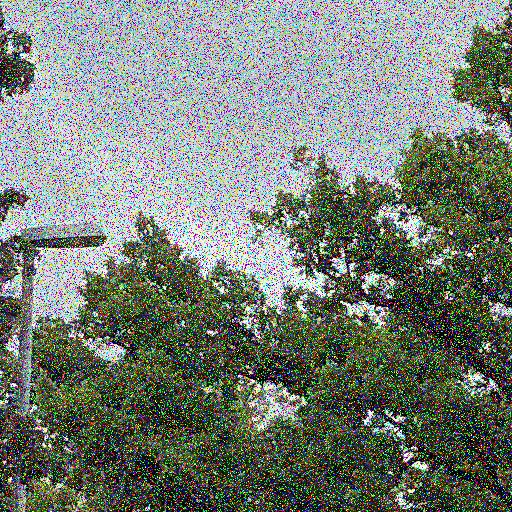tree: (1, 1, 511, 512)
